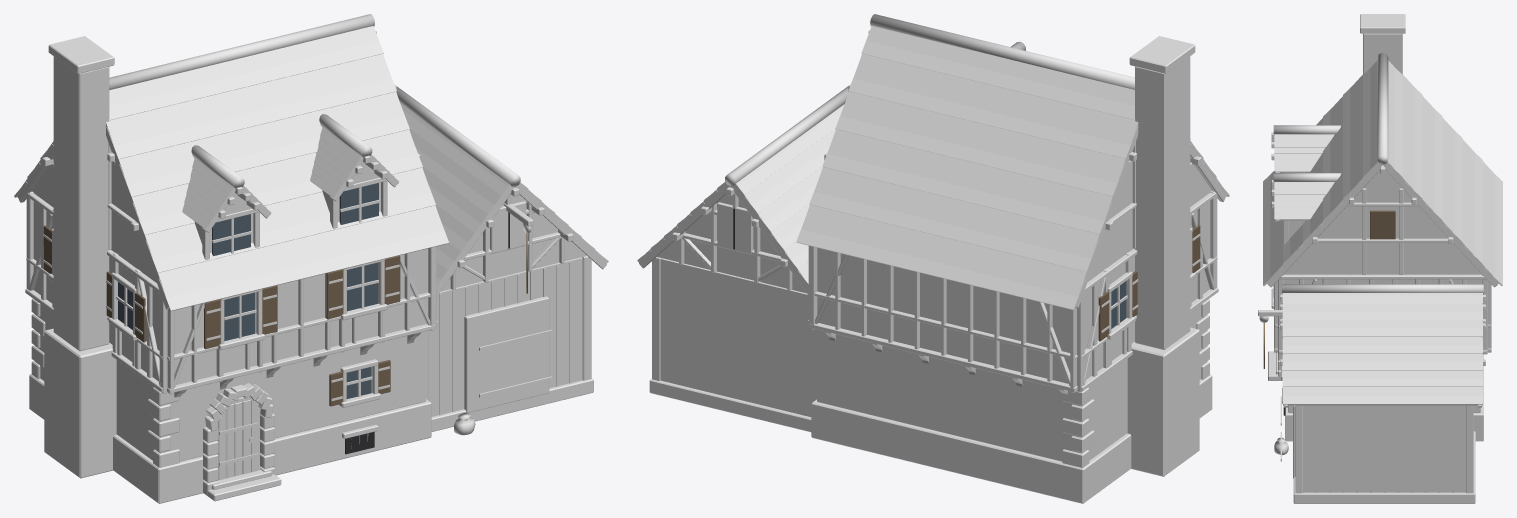
The model's file is ville_19_manoir_grange_pierre_bois.fbx.
The picture shows the model from 3 angles, left to right: view 1: azimuth 30°, elevation 25°; view 2: azimuth 150°, elevation 25°; view 3: azimuth 270°, elevation 25°; orthographic projection. The views are drawn at different scales.
Visible parts, largest first — view 1: ville_19_manoir_grange_pierre_bois_LOD0; view 2: ville_19_manoir_grange_pierre_bois_LOD0; view 3: ville_19_manoir_grange_pierre_bois_LOD0.
Boxes of the visible parts, bbox=[...] form: ville_19_manoir_grange_pierre_bois_LOD0: bbox=[14, 14, 608, 503]; ville_19_manoir_grange_pierre_bois_LOD0: bbox=[637, 14, 1229, 503]; ville_19_manoir_grange_pierre_bois_LOD0: bbox=[1258, 14, 1502, 503].
Size of what is drawn, in the model's own units: 11.94 by 9.72 by 6.87.
